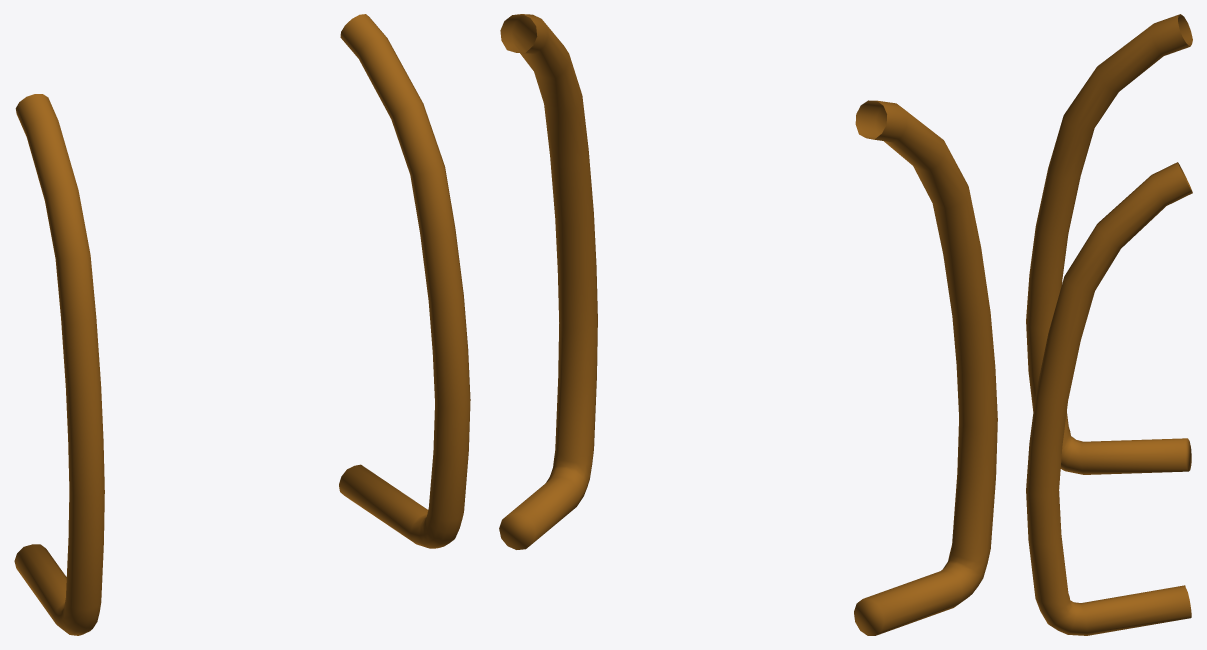
Rendered from 16.-Armazon.fbx.
3 views of the same model, side by side, from view 1: azimuth 30°, elevation 25°; view 2: azimuth 150°, elevation 25°; view 3: azimuth 270°, elevation 25° (orthographic). The views are drawn at different scales.
Visible parts, largest first — view 1: 03.5.-Armazon; view 2: 03.5.-Armazon; view 3: 03.5.-Armazon.
Part boxes in pixels (x1,y1,x2,y2): 03.5.-Armazon: [14, 14, 470, 635]; 03.5.-Armazon: [499, 14, 997, 635]; 03.5.-Armazon: [1026, 14, 1192, 635].
Bounding box in the file's own units: 237 × 283 × 92.29.
